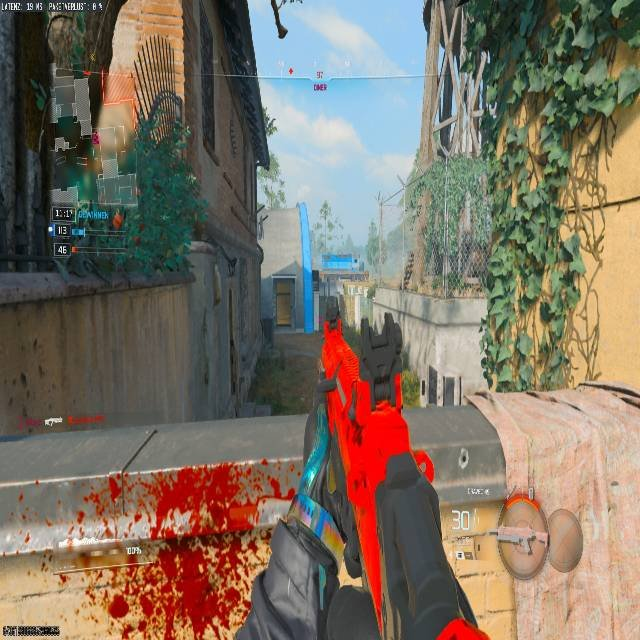player: (403, 254, 413, 289)
